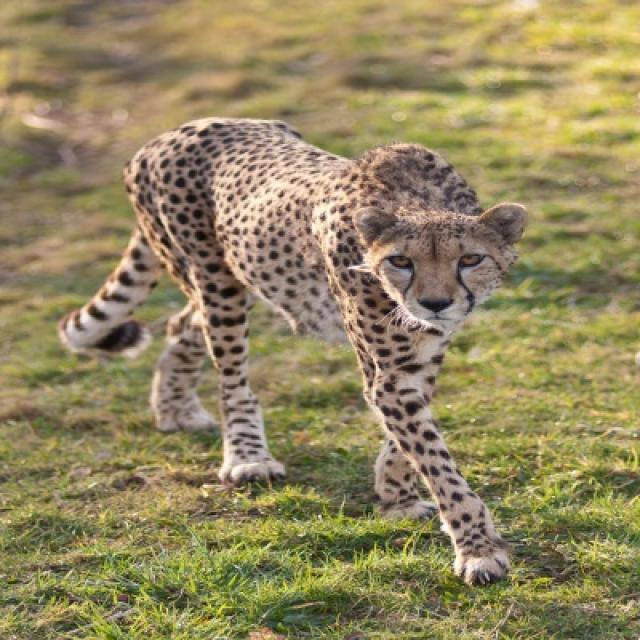Cheetah: (56, 120, 530, 590)
